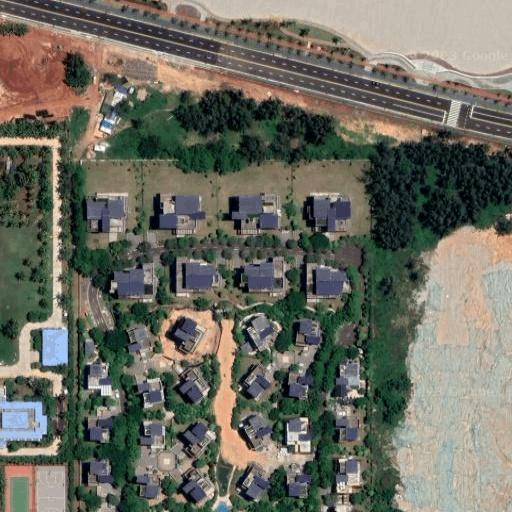building: (231, 193, 277, 234), (159, 192, 206, 228), (32, 464, 66, 511), (175, 257, 216, 291), (314, 195, 351, 232), (307, 262, 345, 297), (242, 259, 285, 289), (86, 199, 125, 232), (174, 316, 207, 354), (183, 421, 216, 458), (111, 269, 154, 297), (182, 466, 215, 502), (179, 369, 210, 404), (242, 414, 272, 449), (247, 314, 273, 353), (244, 362, 272, 398), (242, 465, 269, 501), (285, 417, 311, 453), (42, 329, 67, 365), (336, 362, 359, 397), (88, 363, 112, 396), (335, 460, 360, 491), (136, 378, 163, 405), (87, 418, 113, 443), (128, 326, 152, 352), (88, 460, 112, 485), (141, 423, 165, 446), (289, 373, 312, 396), (297, 321, 319, 342), (336, 418, 358, 439), (206, 498, 230, 512), (240, 338, 257, 354), (105, 105, 119, 121), (336, 495, 349, 512), (109, 92, 122, 108), (288, 482, 300, 496), (84, 338, 94, 354), (102, 118, 115, 130), (114, 85, 128, 96), (149, 486, 158, 499), (105, 92, 113, 105), (90, 508, 110, 512), (101, 104, 109, 114), (138, 476, 149, 483), (101, 127, 112, 133), (94, 145, 105, 151), (297, 475, 310, 480)
